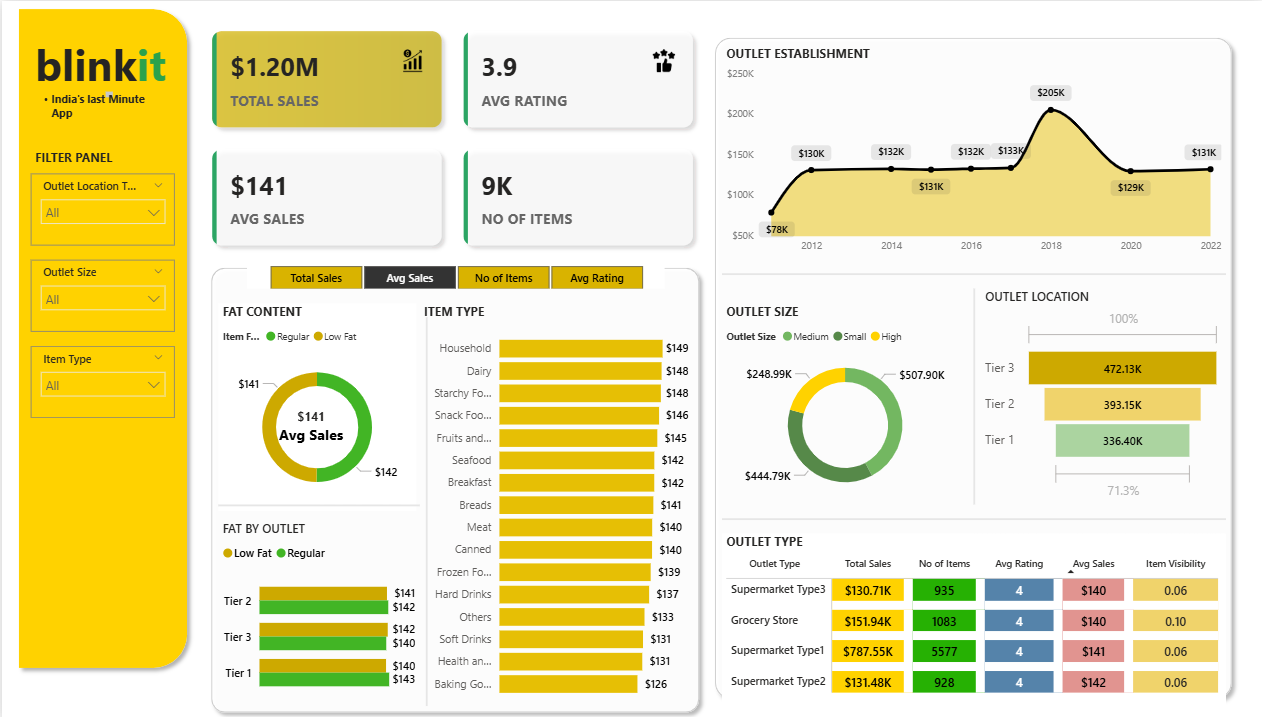

The page's visual inventory and layout, read from the dashboard file:
{"tool":"powerbi","page":{"name":"Page 1","canvas":[1400,800],"ordinal":0},"visuals":[{"type":"shape","box":[10,0,205,750],"z":0},{"type":"textbox","box":[32,32,176,80],"z":1000},{"type":"textbox","box":[32,96,96,16],"z":2000},{"type":"textbox","box":[32,96,144,48],"z":3000},{"type":"cardVisual","fields":{"Data":["BlinkIT Grocery Data.Total Sales","BlinkIT Grocery Data.Avg Rating","BlinkIT Grocery Data.Avg Sales","BlinkIT Grocery Data.No of Items"]},"box":[216,16,568,272],"z":4000},{"type":"shape","box":[224,288,560,512],"z":5000},{"type":"donutChart","title":"FAT CONTENT","fields":{"Y":["BlinkIT Grocery Data.Avg Sales"],"Category":["BlinkIT Grocery Data.Item Fat Content"]},"box":[240,336,220,230],"z":6000},{"type":"slicer","fields":{"Values":["Metrics.Metrics"]},"box":[272,288,464,32],"z":7000},{"type":"cardVisual","fields":{"Data":["BlinkIT Grocery Data.Avg Sales"]},"box":[288,432,112,80],"z":8000},{"type":"clusteredBarChart","title":"FAT BY OUTLET","fields":{"Y":["BlinkIT Grocery Data.Avg Sales"],"Category":["BlinkIT Grocery Data.Outlet Location Type"],"Series":["BlinkIT Grocery Data.Item Fat Content"]},"box":[240,576,224,208],"z":9000},{"type":"shape","box":[240,544,224,32],"z":10000},{"type":"shape","box":[432,352,80,432],"z":11000},{"type":"barChart","title":"ITEM TYPE","fields":{"Y":["BlinkIT Grocery Data.Avg Sales"],"Category":["BlinkIT Grocery Data.Item Type"]},"box":[464,336,304,448],"z":12000},{"type":"shape","box":[784,32,592,752],"z":13000},{"type":"lineChart","title":"OUTLET ESTABLISHMENT","fields":{"Category":["BlinkIT Grocery Data.Outlet Establishment Year"],"Y":["BlinkIT Grocery Data.Total Sales"]},"box":[800,48,560,240],"z":14000},{"type":"shape","box":[800,288,560,32],"z":15000},{"type":"donutChart","title":"OUTLET SIZE ","fields":{"Y":["BlinkIT Grocery Data.Total Sales"],"Category":["BlinkIT Grocery Data.Outlet Size"]},"box":[800,336,274,225],"z":16000},{"type":"shape","box":[1040,320,80,240],"z":17000},{"type":"funnel","title":"OUTLET LOCATION","fields":{"Y":["Sum(BlinkIT Grocery Data.Sales)"],"Category":["BlinkIT Grocery Data.Outlet Location Type"]},"box":[1088,320,272,240],"z":18000},{"type":"shape","box":[800,560,560,32],"z":19000},{"type":"pivotTable","title":"OUTLET TYPE ","fields":{"Rows":["BlinkIT Grocery Data.Outlet Type"],"Values":["BlinkIT Grocery Data.Total Sales","BlinkIT Grocery Data.No of Items","BlinkIT Grocery Data.Avg Rating","BlinkIT Grocery Data.Avg Sales","Avg(BlinkIT Grocery Data.Item Visibility)"]},"box":[800,592,560,192],"z":20000},{"type":"slicer","fields":{"Values":["BlinkIT Grocery Data.Outlet Location Type"]},"box":[32,192,160,80],"z":21000},{"type":"slicer","fields":{"Values":["BlinkIT Grocery Data.Outlet Size"]},"box":[32,288,160,80],"z":22000},{"type":"slicer","fields":{"Values":["BlinkIT Grocery Data.Item Type"]},"box":[32,384,160,80],"z":23000},{"type":"textbox","box":[32,160,144,32],"z":24000}]}

Visuals, with their boxes in screenshot pixels (x1, y1, x2, y2), scaled from the page's 1400x800 canvas onto the 1262x717 screenshot:
shape: bbox(9, 0, 194, 672)
textbox: bbox(29, 29, 187, 100)
textbox: bbox(29, 86, 115, 100)
textbox: bbox(29, 86, 159, 129)
cardVisual - BlinkIT Grocery Data.Total Sales x BlinkIT Grocery Data.Avg Rating: bbox(195, 14, 707, 258)
shape: bbox(202, 258, 707, 716)
"FAT CONTENT" donutChart: bbox(216, 301, 415, 507)
slicer - Metrics.Metrics: bbox(245, 258, 663, 287)
cardVisual - BlinkIT Grocery Data.Avg Sales: bbox(260, 387, 361, 459)
"FAT BY OUTLET" clusteredBarChart: bbox(216, 516, 418, 703)
shape: bbox(216, 488, 418, 516)
shape: bbox(389, 315, 462, 703)
"ITEM TYPE" barChart: bbox(418, 301, 692, 703)
shape: bbox(707, 29, 1240, 703)
"OUTLET ESTABLISHMENT" lineChart: bbox(721, 43, 1226, 258)
shape: bbox(721, 258, 1226, 287)
"OUTLET SIZE " donutChart: bbox(721, 301, 968, 503)
shape: bbox(937, 287, 1010, 502)
"OUTLET LOCATION" funnel: bbox(981, 287, 1226, 502)
shape: bbox(721, 502, 1226, 531)
"OUTLET TYPE " pivotTable: bbox(721, 531, 1226, 703)
slicer - BlinkIT Grocery Data.Outlet Location Type: bbox(29, 172, 173, 244)
slicer - BlinkIT Grocery Data.Outlet Size: bbox(29, 258, 173, 330)
slicer - BlinkIT Grocery Data.Item Type: bbox(29, 344, 173, 416)
textbox: bbox(29, 143, 159, 172)
